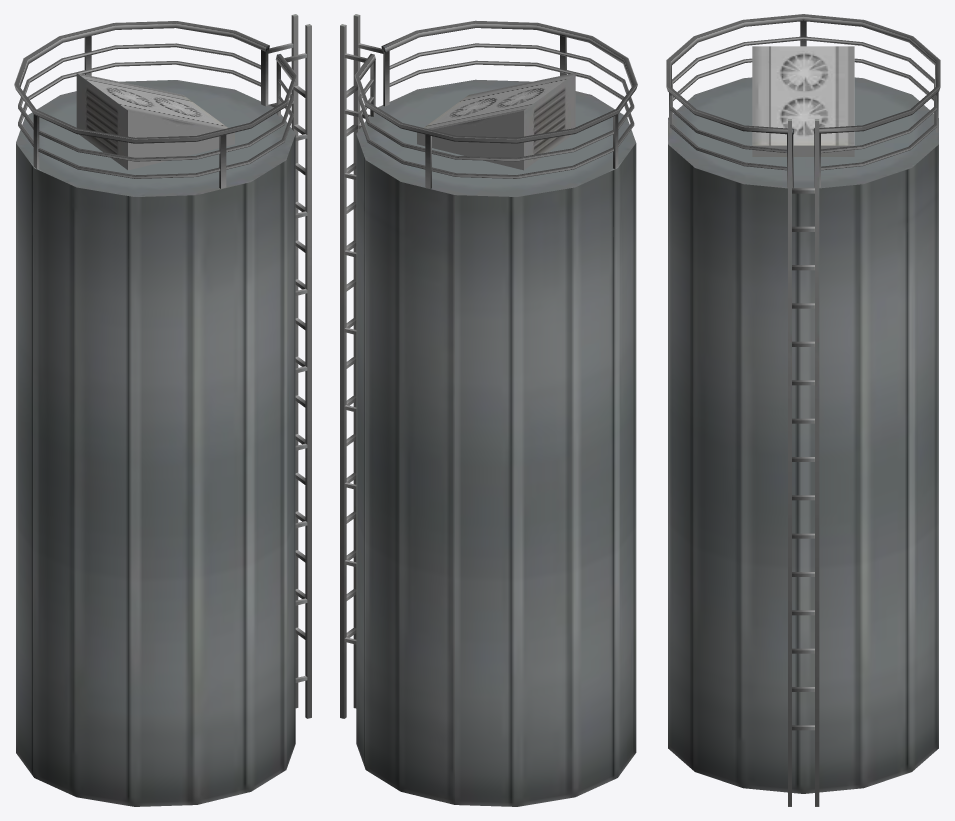
File: industrial_silos_05.glb
3 views of the same model, side by side, from view 1: azimuth 30°, elevation 25°; view 2: azimuth 150°, elevation 25°; view 3: azimuth 270°, elevation 25° (orthographic).
Visible parts, largest first — view 1: ind:silos_05; view 2: ind:silos_05; view 3: ind:silos_05.
Part boxes in pixels (x1,y1,x2,y2): ind:silos_05: [14, 14, 311, 806]; ind:silos_05: [340, 14, 637, 806]; ind:silos_05: [666, 14, 940, 806].
Size of the model in its own units: 3.67 by 8.94 by 3.24.
Materials: 1 (1 with a texture image).
